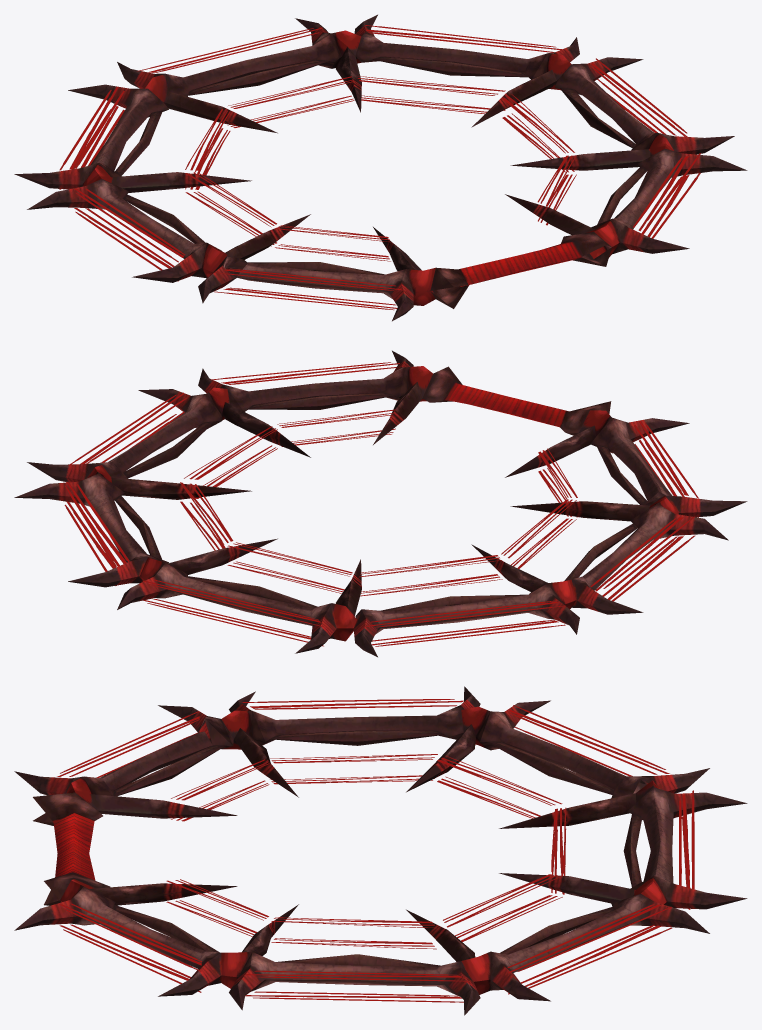
The model's file is totem2.FBX.
3 views of the same model, one above another, from view 1: azimuth 30°, elevation 25°; view 2: azimuth 150°, elevation 25°; view 3: azimuth 270°, elevation 25° (orthographic). The views are drawn at different scales.
Parts seen in each view (by area): view 1: Object06; view 2: Object06; view 3: Object06.
Part boxes in pixels (x1,y1,x2,y2): Object06: (14, 14, 747, 321); Object06: (14, 350, 747, 657); Object06: (14, 686, 747, 1015).
Size of the model in its own units: 17.33 by 0.9553 by 16.3.
